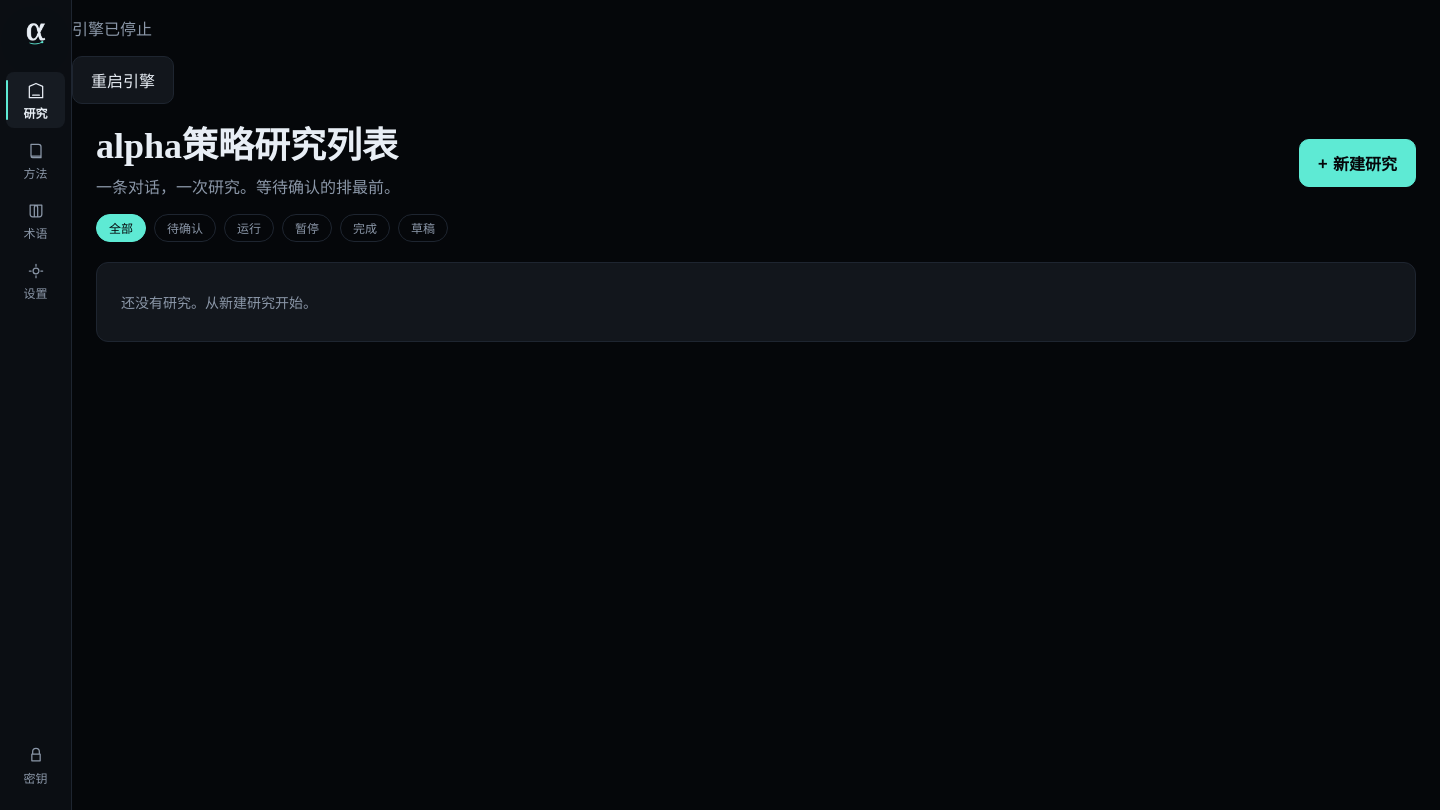
Test case: engine view polling when sidecar stopped › resumes fetchView polling after a successful restart
This screenshot has width=1440, height=810.
Expected: the message "引擎已停止 重启引擎" is shown, [72,16,174,104]
Step 1. Click the button "重启引擎" → (123, 80), box [72,56,174,104]
Wait 1100 ms
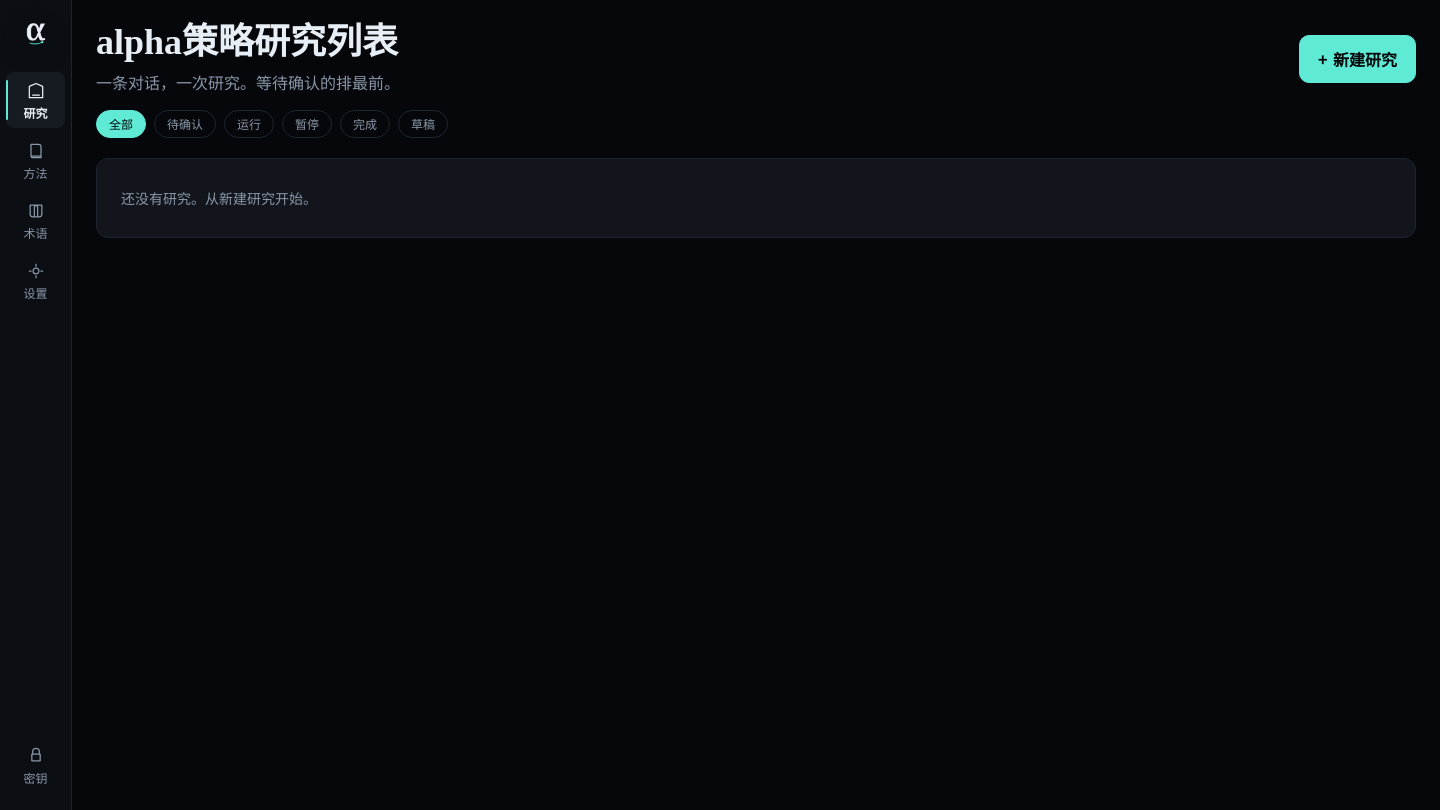
Now the message with test id "sidecar-stopped" is gone
